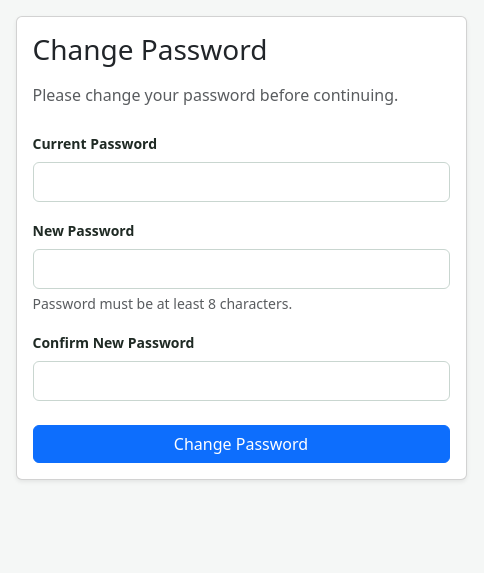
it: Lab 3 - First Login Password Change › shows an error when the new password is shorter than 8 characters
This screenshot has width=484, height=573.
Type "Password123!" into the password field labelled "Current Password" at (241, 182), box [32,162,450,202]
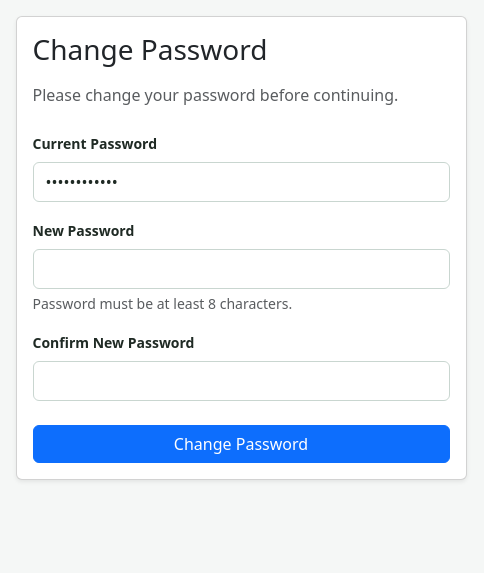
Type "short" into the password field labelled "New Password" at (241, 269), box [32,249,450,289]
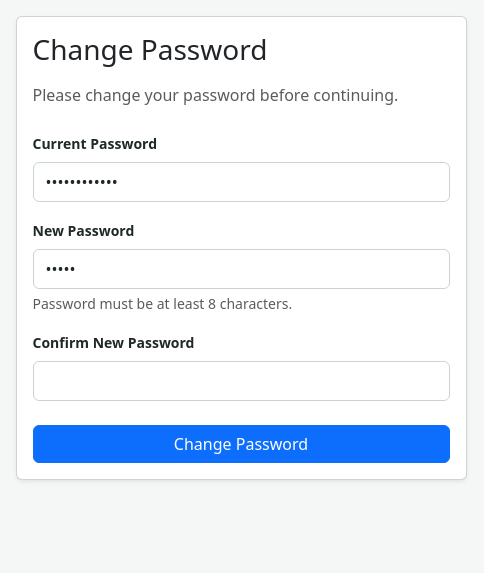
Type "short" into the password field labelled "Confirm New Password" at (241, 381), box [32,361,450,401]
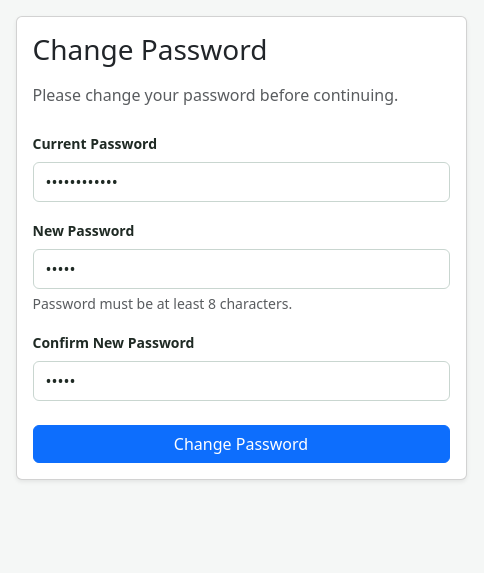
Click the button "Change Password" at (241, 444), box [32,425,450,463]
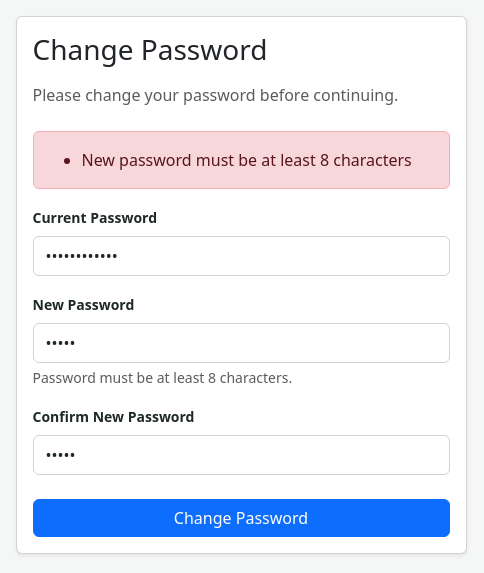
Check: the list item "New password must be at least 8 characters" is shown, box [82,148,432,172]
